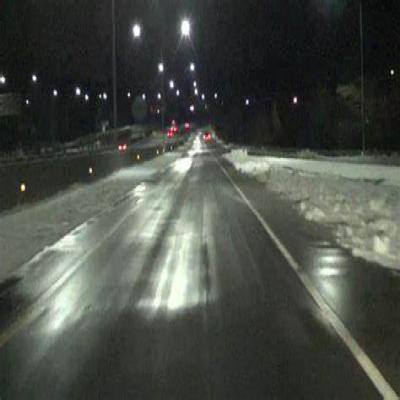iced-road: (0, 140, 381, 400)
